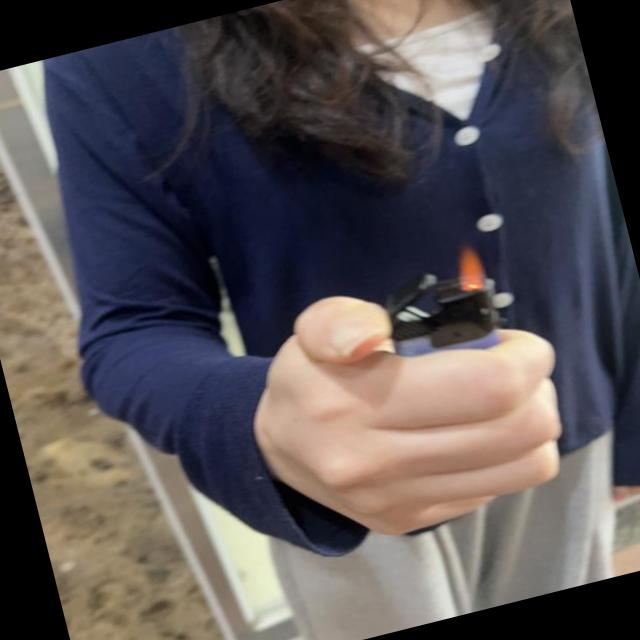Fire: (446, 238, 491, 296)
